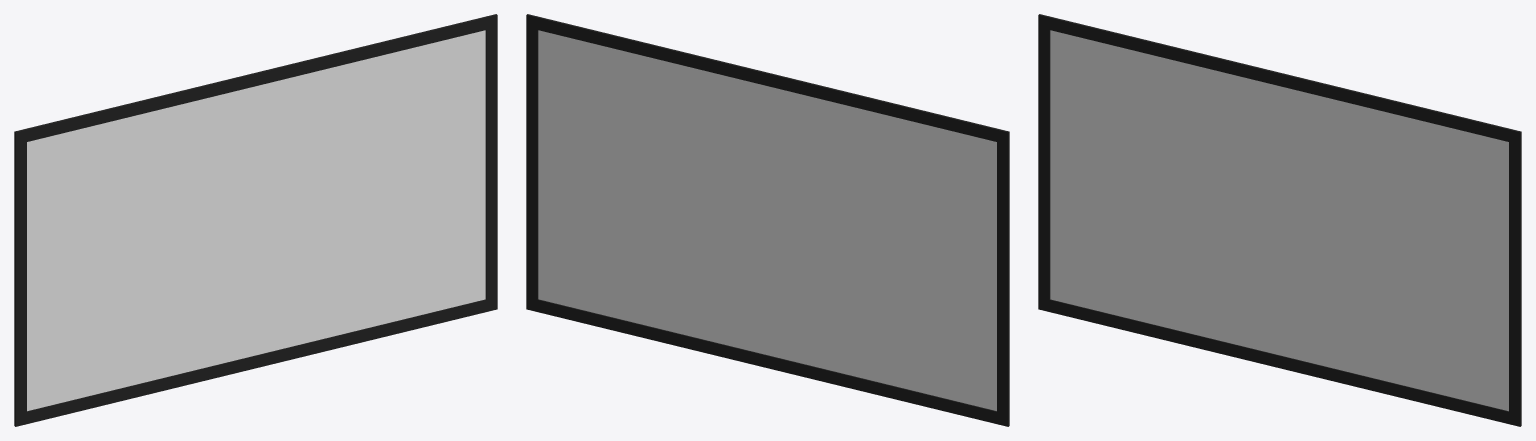
The model's file is Screen01b.FBX.
3 views of the same model, side by side, from view 1: azimuth 30°, elevation 25°; view 2: azimuth 150°, elevation 25°; view 3: azimuth 330°, elevation 25° (orthographic).
Visible parts, largest first — view 1: Screen01bMovie, Screen01b; view 2: Screen01bMovie, Screen01b; view 3: Screen01bMovie, Screen01b.
Boxes of the visible parts, bbox=[...] form: Screen01bMovie: bbox=[27, 30, 485, 411]; Screen01b: bbox=[14, 14, 497, 426]; Screen01bMovie: bbox=[538, 30, 996, 410]; Screen01b: bbox=[526, 14, 1009, 426]; Screen01bMovie: bbox=[1050, 30, 1508, 411]; Screen01b: bbox=[1038, 14, 1521, 426].
Size of the model in its own units: 485 by 283 by 2.14.
